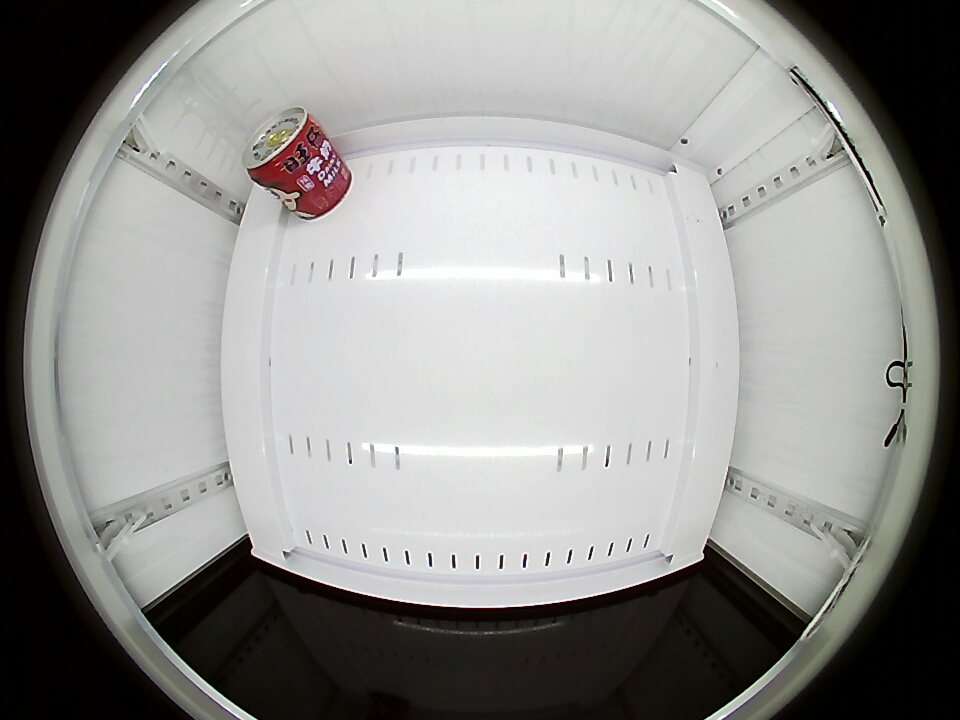wangzainiunai: (244, 107, 326, 189)
